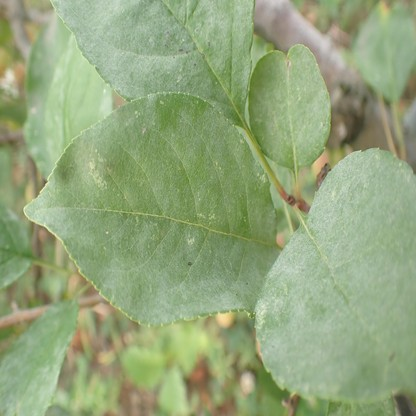powdery_mildew: (24, 96, 277, 323), (255, 148, 416, 404), (50, 0, 253, 114), (255, 44, 329, 163), (1, 304, 75, 416), (0, 207, 32, 288)
